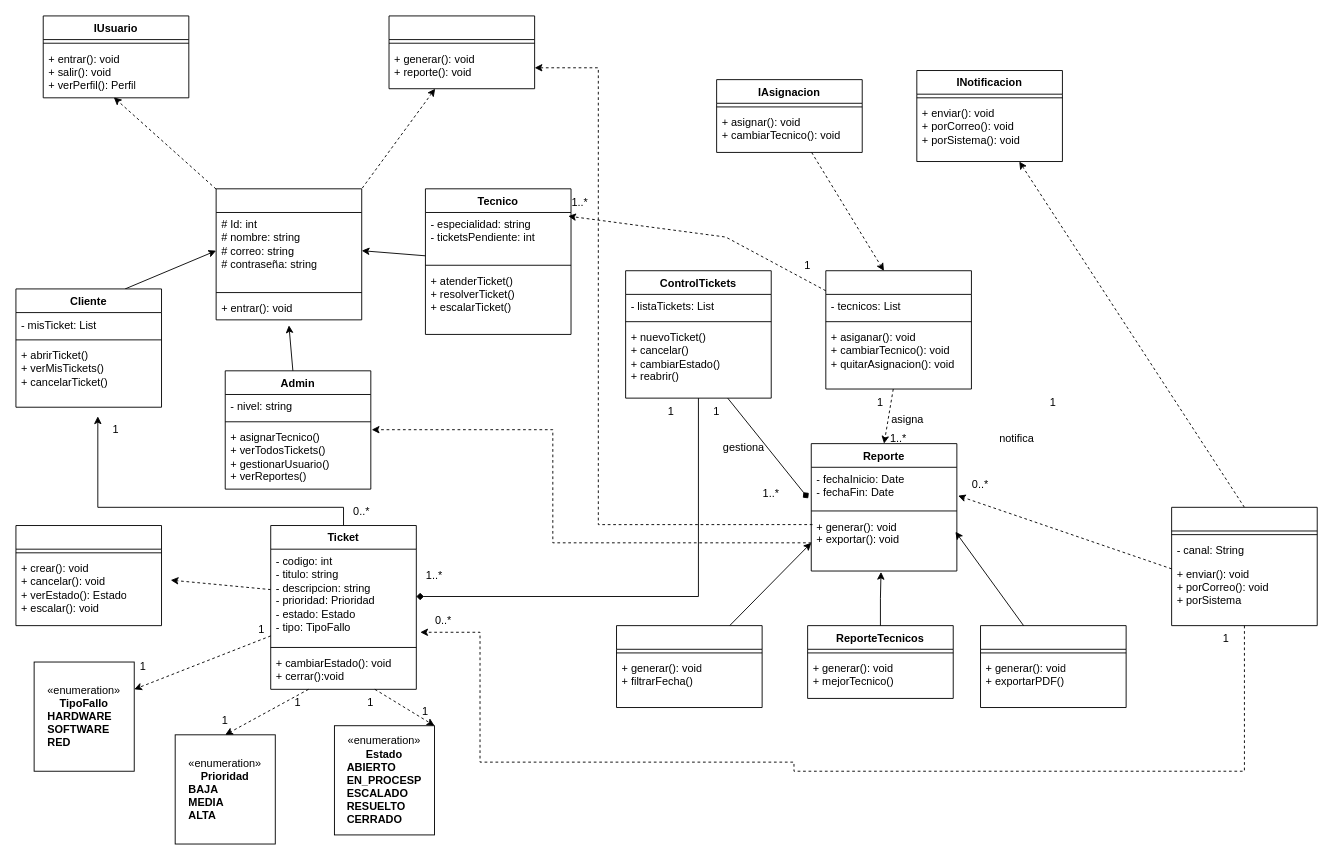
Some shapes in this 1333 by 860 pixel diagram are drawn without their labels. Each missing label, with the box of its shape:
ControlAsignaciones: (825, 270, 971, 389)
IReporte: (388, 15, 535, 89)
ITicket: (15, 525, 162, 626)
Notificador: (1171, 506, 1317, 626)
ReporteGeneral: (980, 625, 1126, 708)
ReporteIncidentes: (616, 625, 762, 708)
Usuario: (215, 188, 362, 320)
